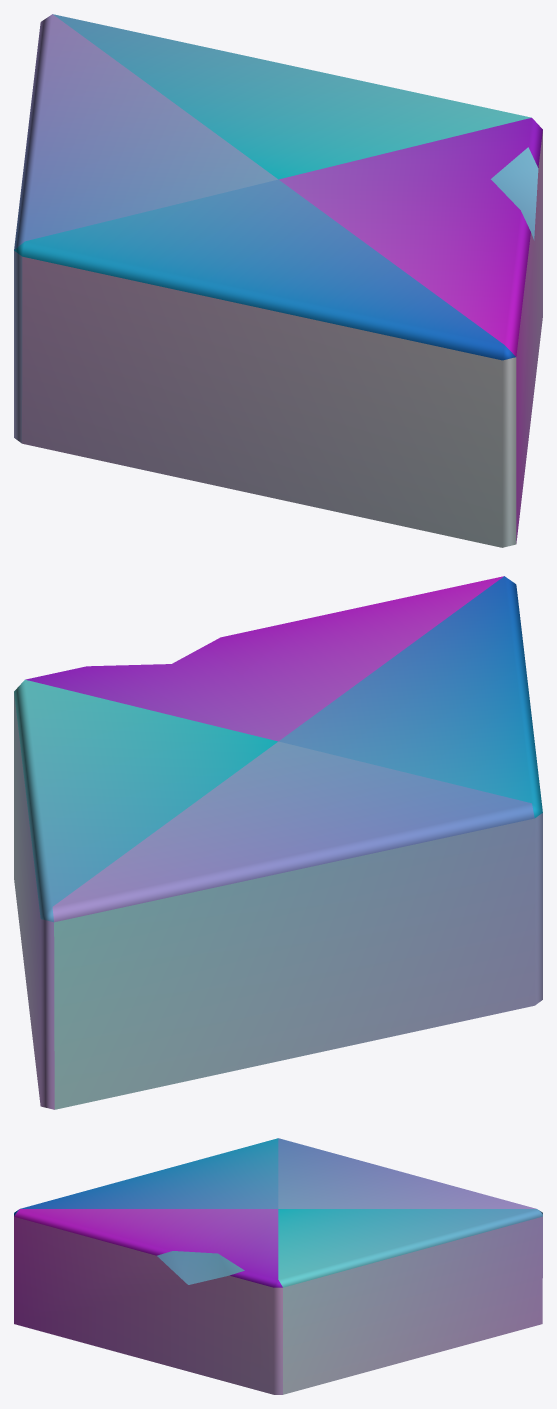
3 views of the same model, one above another, from view 1: azimuth 30°, elevation 25°; view 2: azimuth 150°, elevation 25°; view 3: azimuth 270°, elevation 25° (orthographic). The views are drawn at different scales.
Visible parts, largest first — view 1: SM_Spiked_Plant_05_LOD0; view 2: SM_Spiked_Plant_05_LOD0; view 3: SM_Spiked_Plant_05_LOD0.
Boxes of the visible parts, x1,y1,x2,y2 form: SM_Spiked_Plant_05_LOD0: (14, 14, 542, 547); SM_Spiked_Plant_05_LOD0: (14, 576, 542, 1109); SM_Spiked_Plant_05_LOD0: (14, 1138, 542, 1394).
Size of the model in its own units: 0.1401 by 0.0508 by 0.2152.
